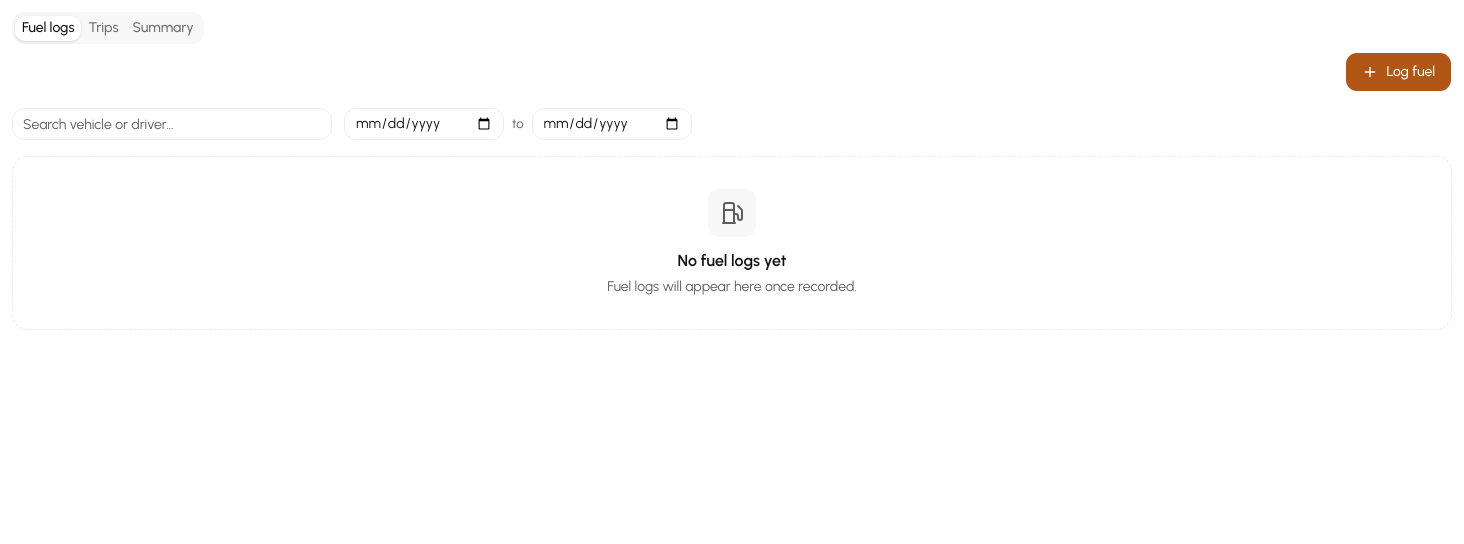
Test: Fuel summary search › lists every vehicle until something is typed
Click the tab "Summary": x=163, y=28 [125, 16, 201, 40]
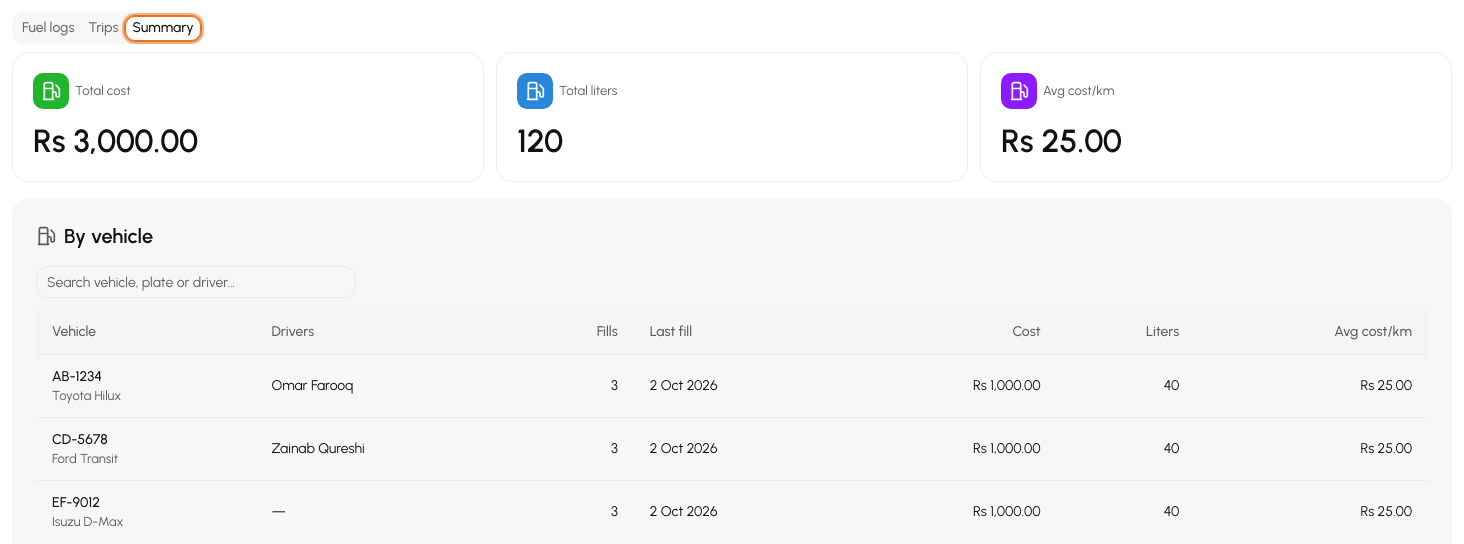
Expected: the link "AB-1234" is shown, [52, 368, 102, 384]
Expected: the link "CD-5678" is shown, [52, 430, 108, 448]
Expected: the link "EF-9012" is shown, [52, 494, 100, 510]
